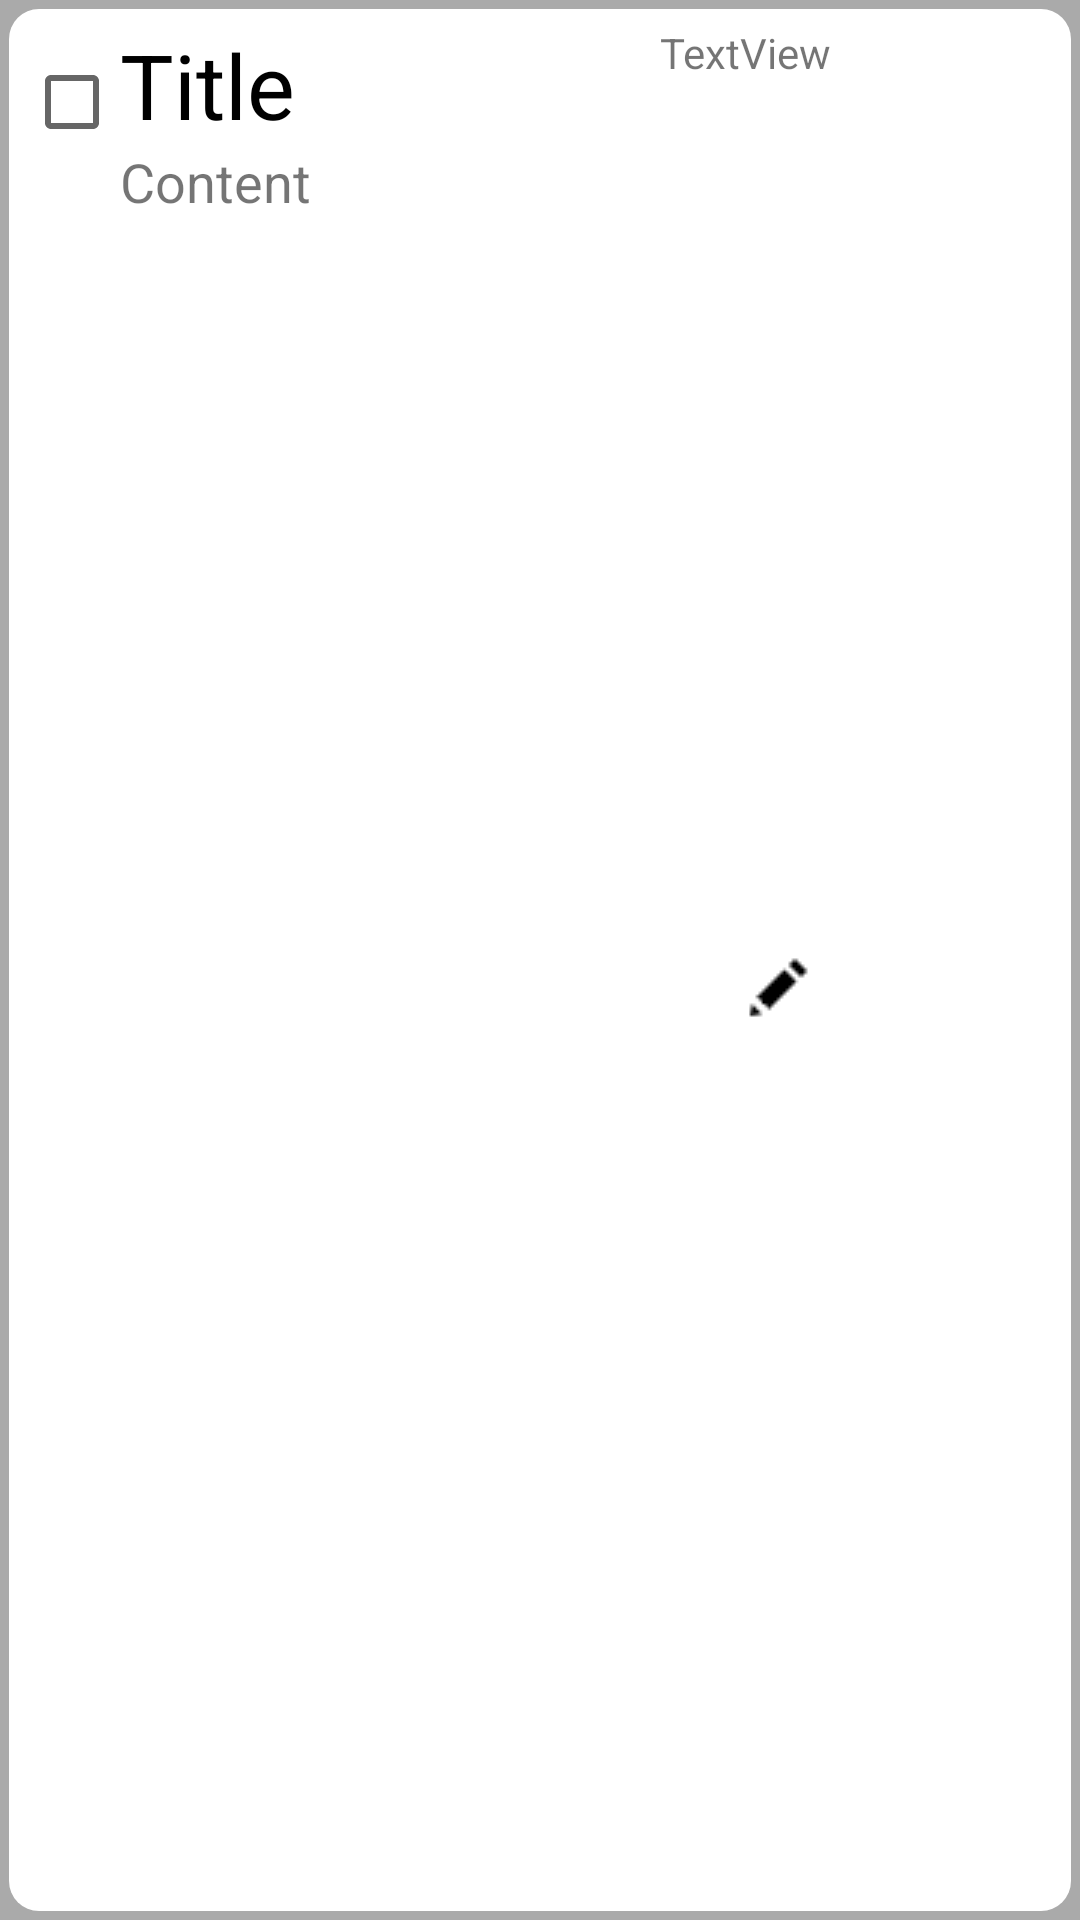

Screen size 1080px×1920px. Icon name, then its center in pixels as (x,y):
edit: (778,987)
